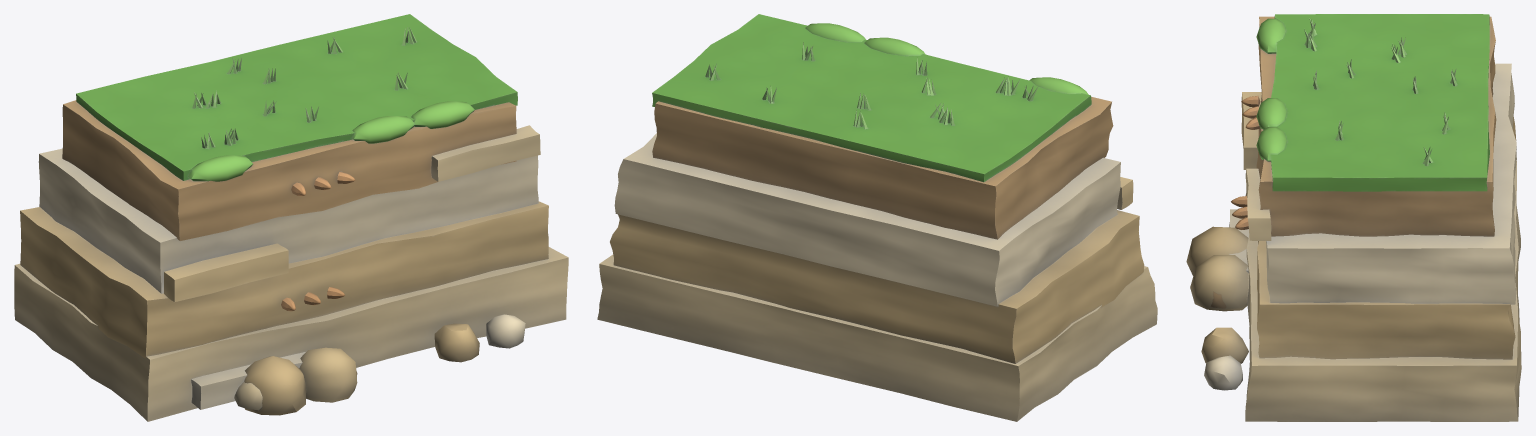
File: cliff_ceno.glb
The picture shows the model from 3 angles, left to right: view 1: azimuth 30°, elevation 25°; view 2: azimuth 150°, elevation 25°; view 3: azimuth 270°, elevation 25°; orthographic projection.
Parts seen in each view (by area): view 1: SM_CliffCeno; view 2: SM_CliffCeno; view 3: SM_CliffCeno.
Part boxes in pixels (bbox=[...]): SM_CliffCeno: bbox=[14, 14, 568, 421]; SM_CliffCeno: bbox=[597, 14, 1157, 421]; SM_CliffCeno: bbox=[1186, 14, 1521, 421].
Size of what is drawn, in the model's own units: 9.18 by 5.02 by 6.23.
1 material, 1 textured.
